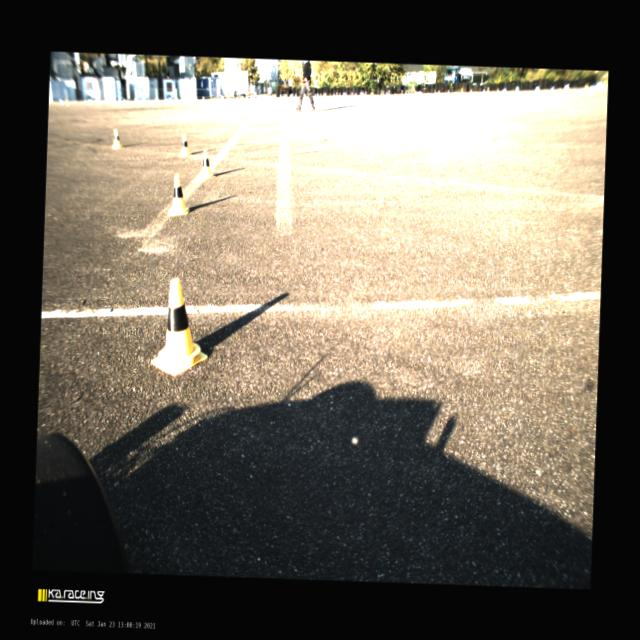yellow_cone: (150, 276, 210, 376), (168, 173, 190, 217), (197, 148, 216, 180), (177, 134, 190, 158), (110, 129, 122, 149)
